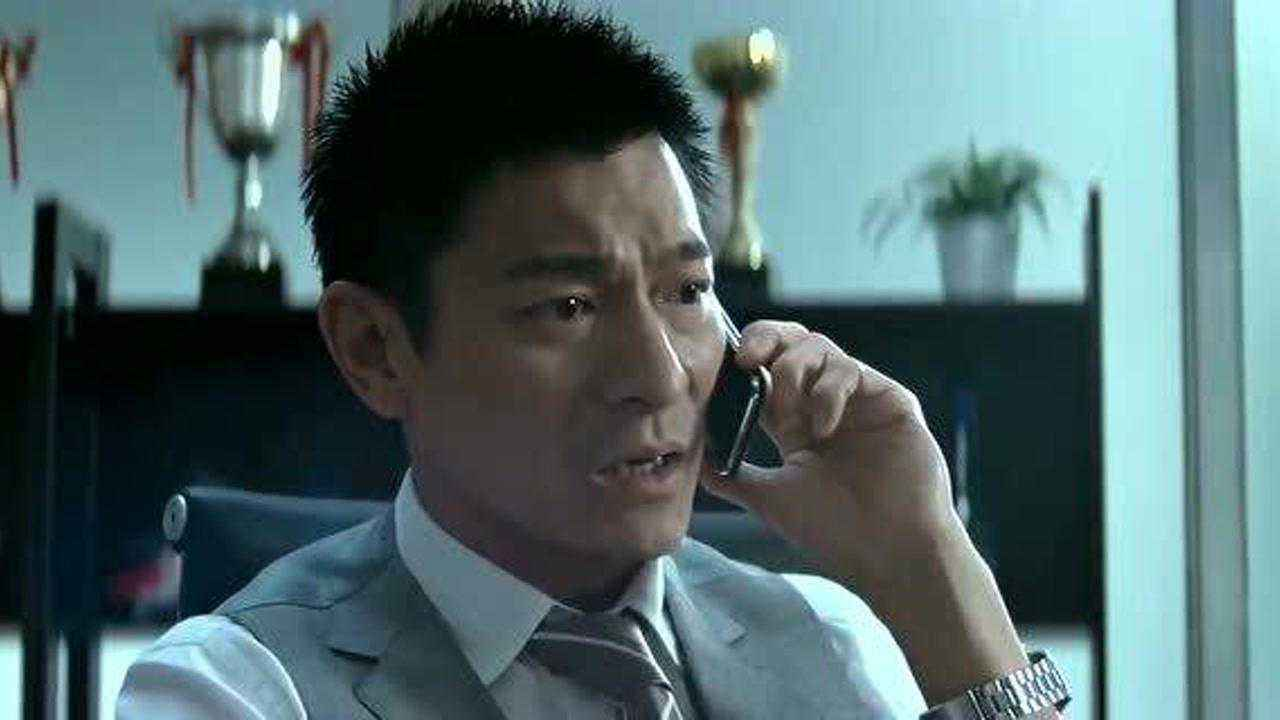calling: (689, 281, 961, 584)
